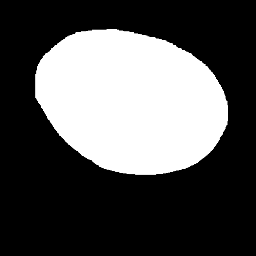mass: (38, 31, 225, 171)
